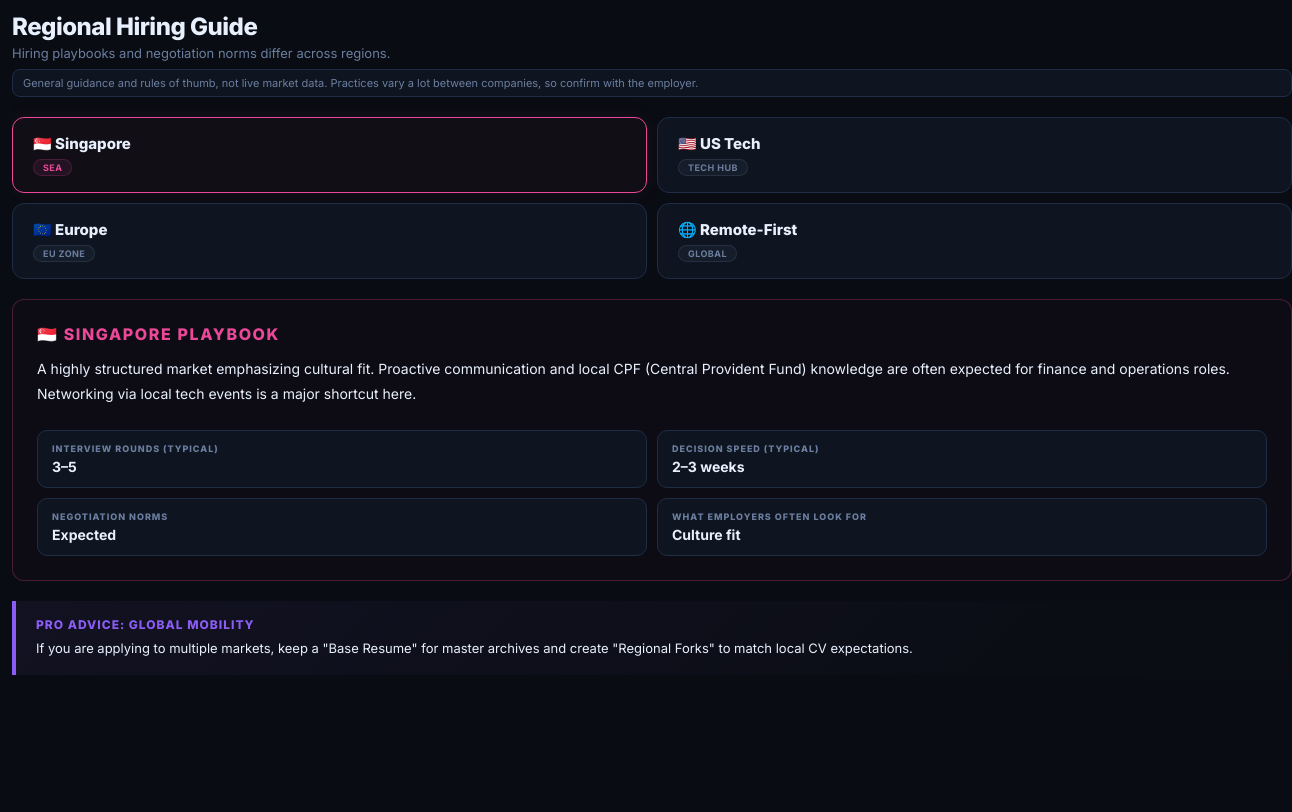
it: Market Intel › still lets the user switch regions
Expected: the text "🇸🇬 Singapore Playbook" is shown, [37, 324, 280, 344]
Click the text "🇺🇸 US Tech". click: x=719, y=144
box: [678, 134, 760, 153]
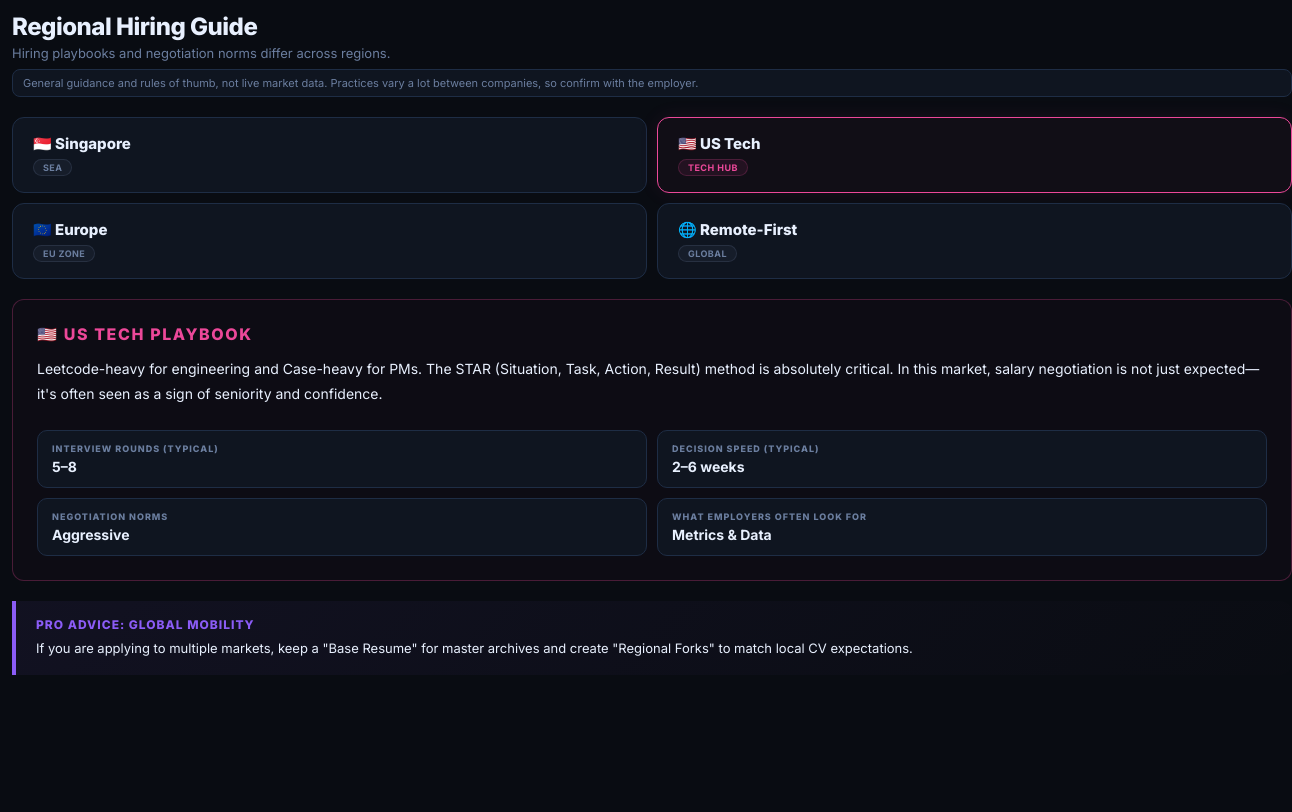
Expected: the text "🇺🇸 US Tech Playbook" is shown, [37, 324, 253, 344]
